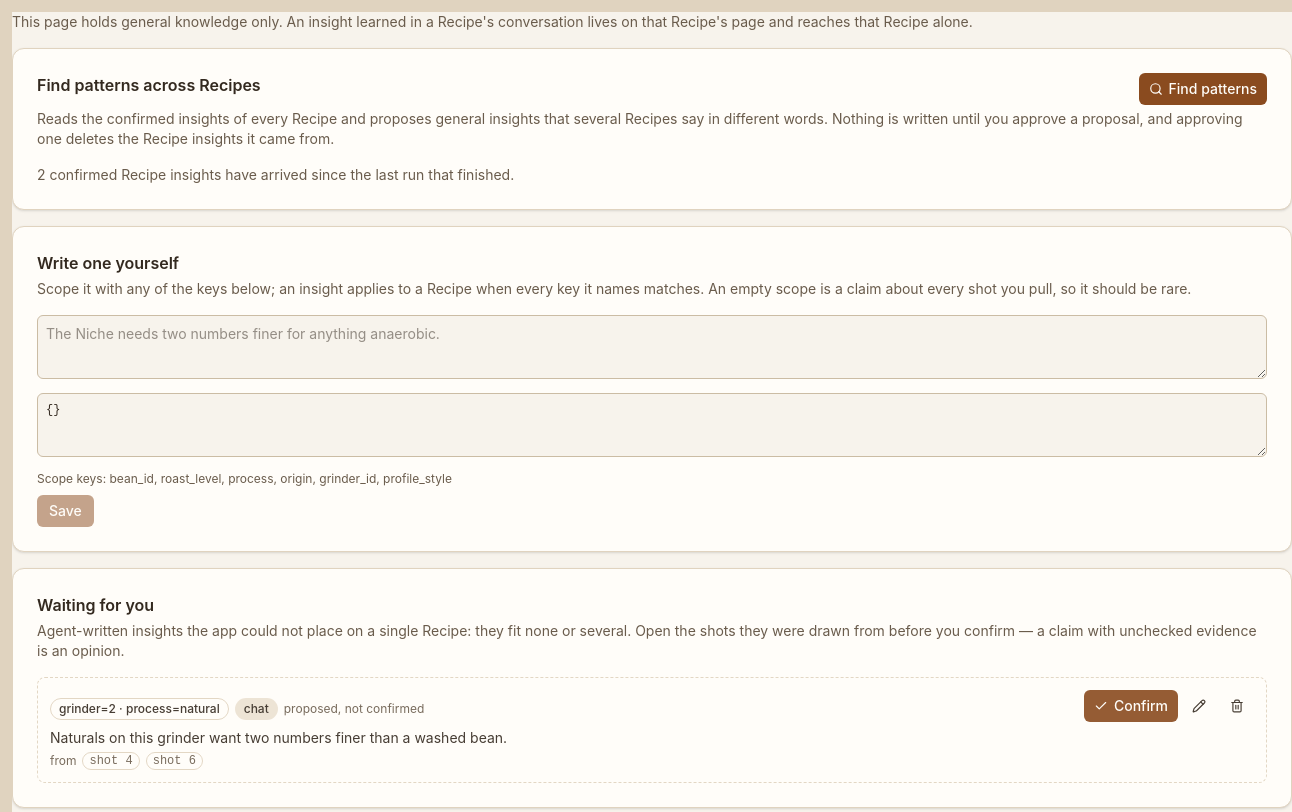
InsightsTab › reports a scope that is not JSON beside the box rather than sending it
In the text box with test id "insight-text": (652,347) [37,315,1267,379], type "Something."
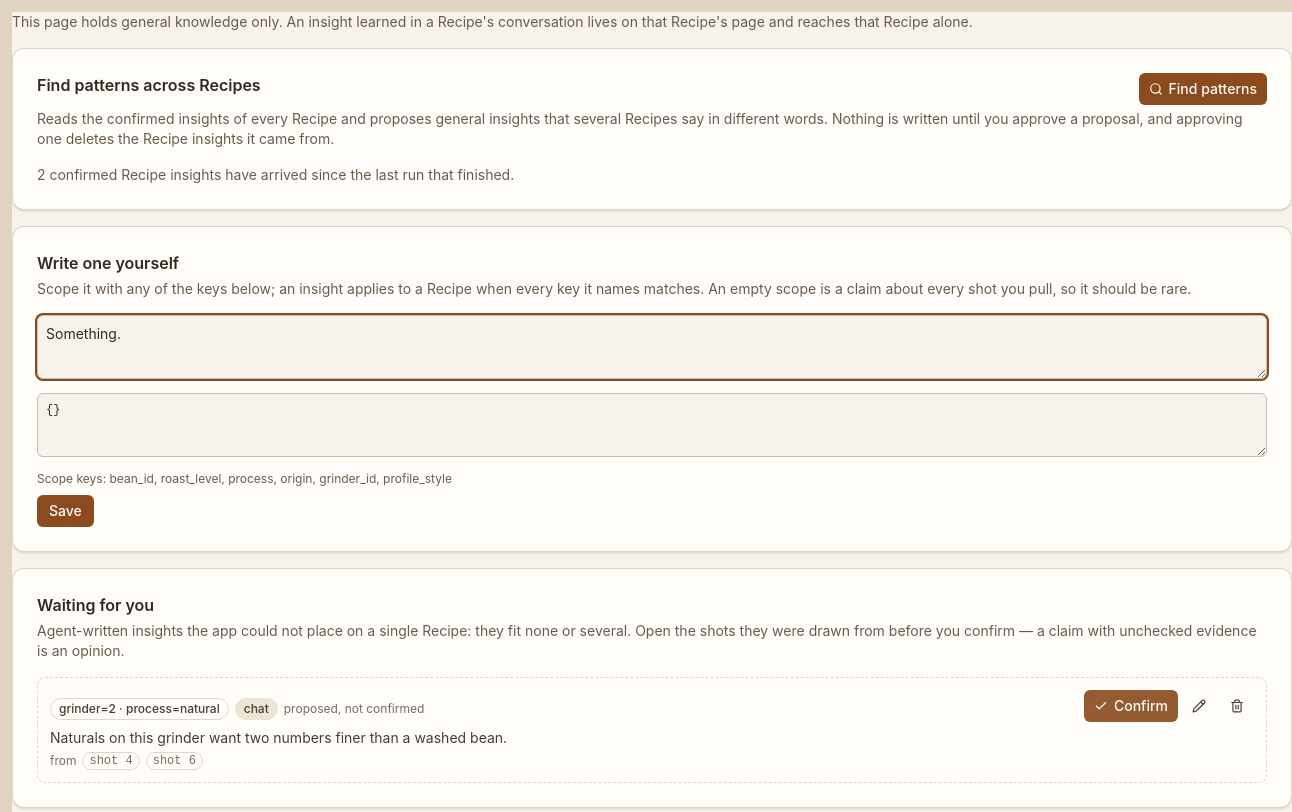
Replace the text in the text box with test id "insight-scope-input" with "not json": (652,425) [37,393,1267,457]
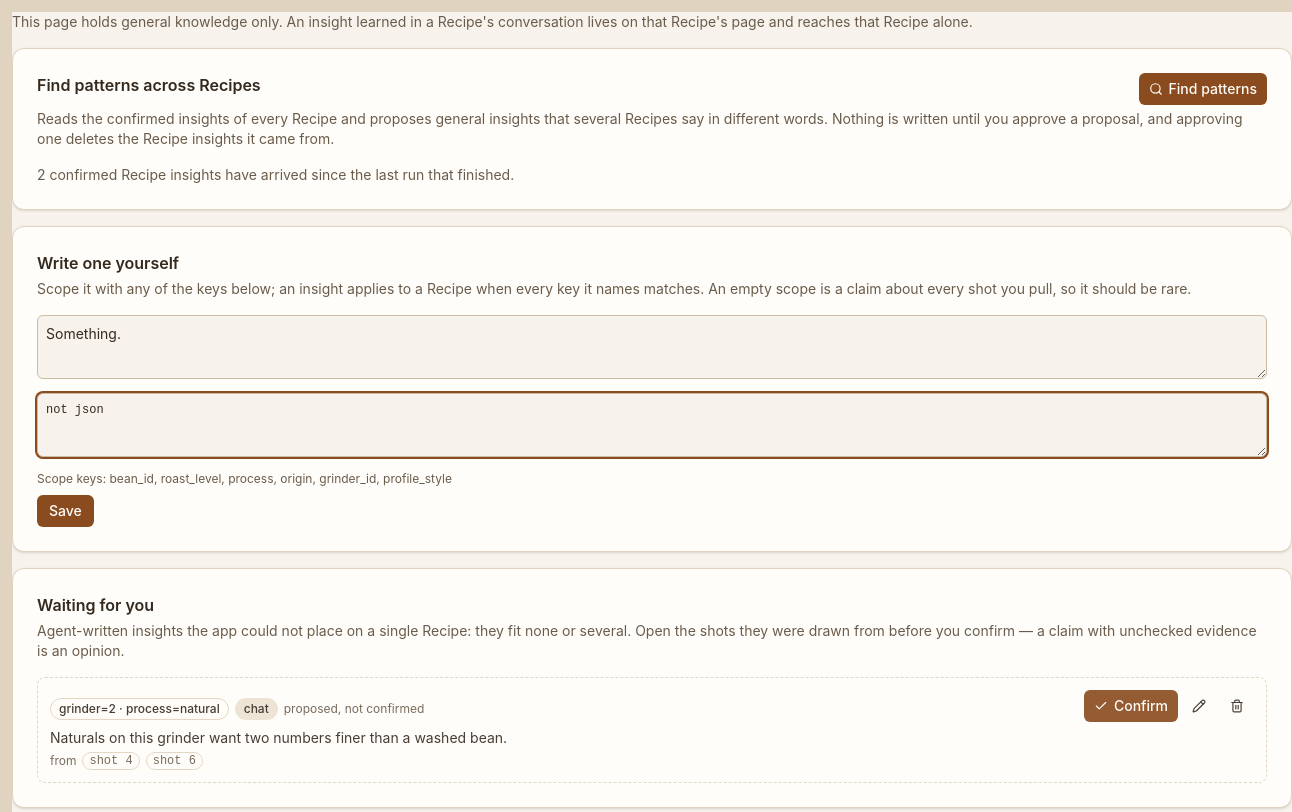
Click the button "Save": (65,511) [37,495,94,527]
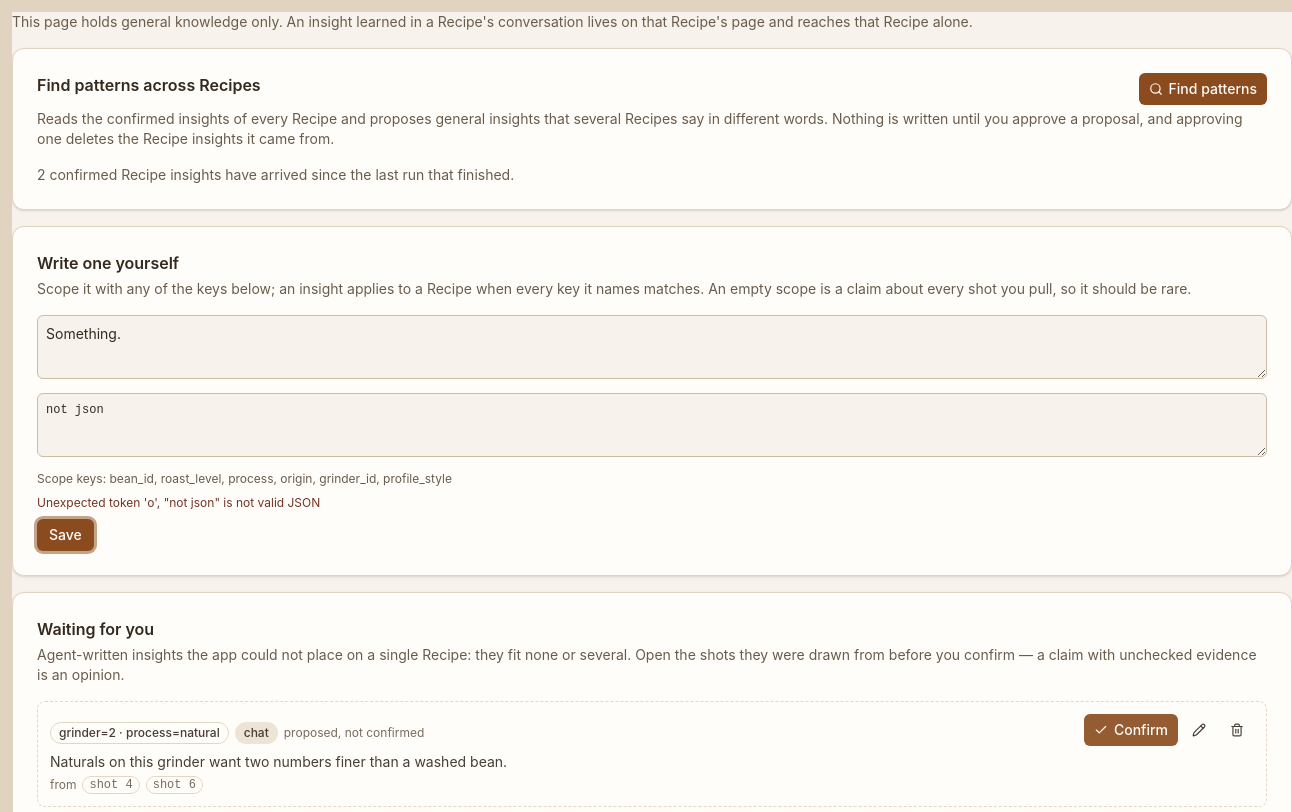
Result: the text "not valid JSON" is shown at [37,495,320,510]
